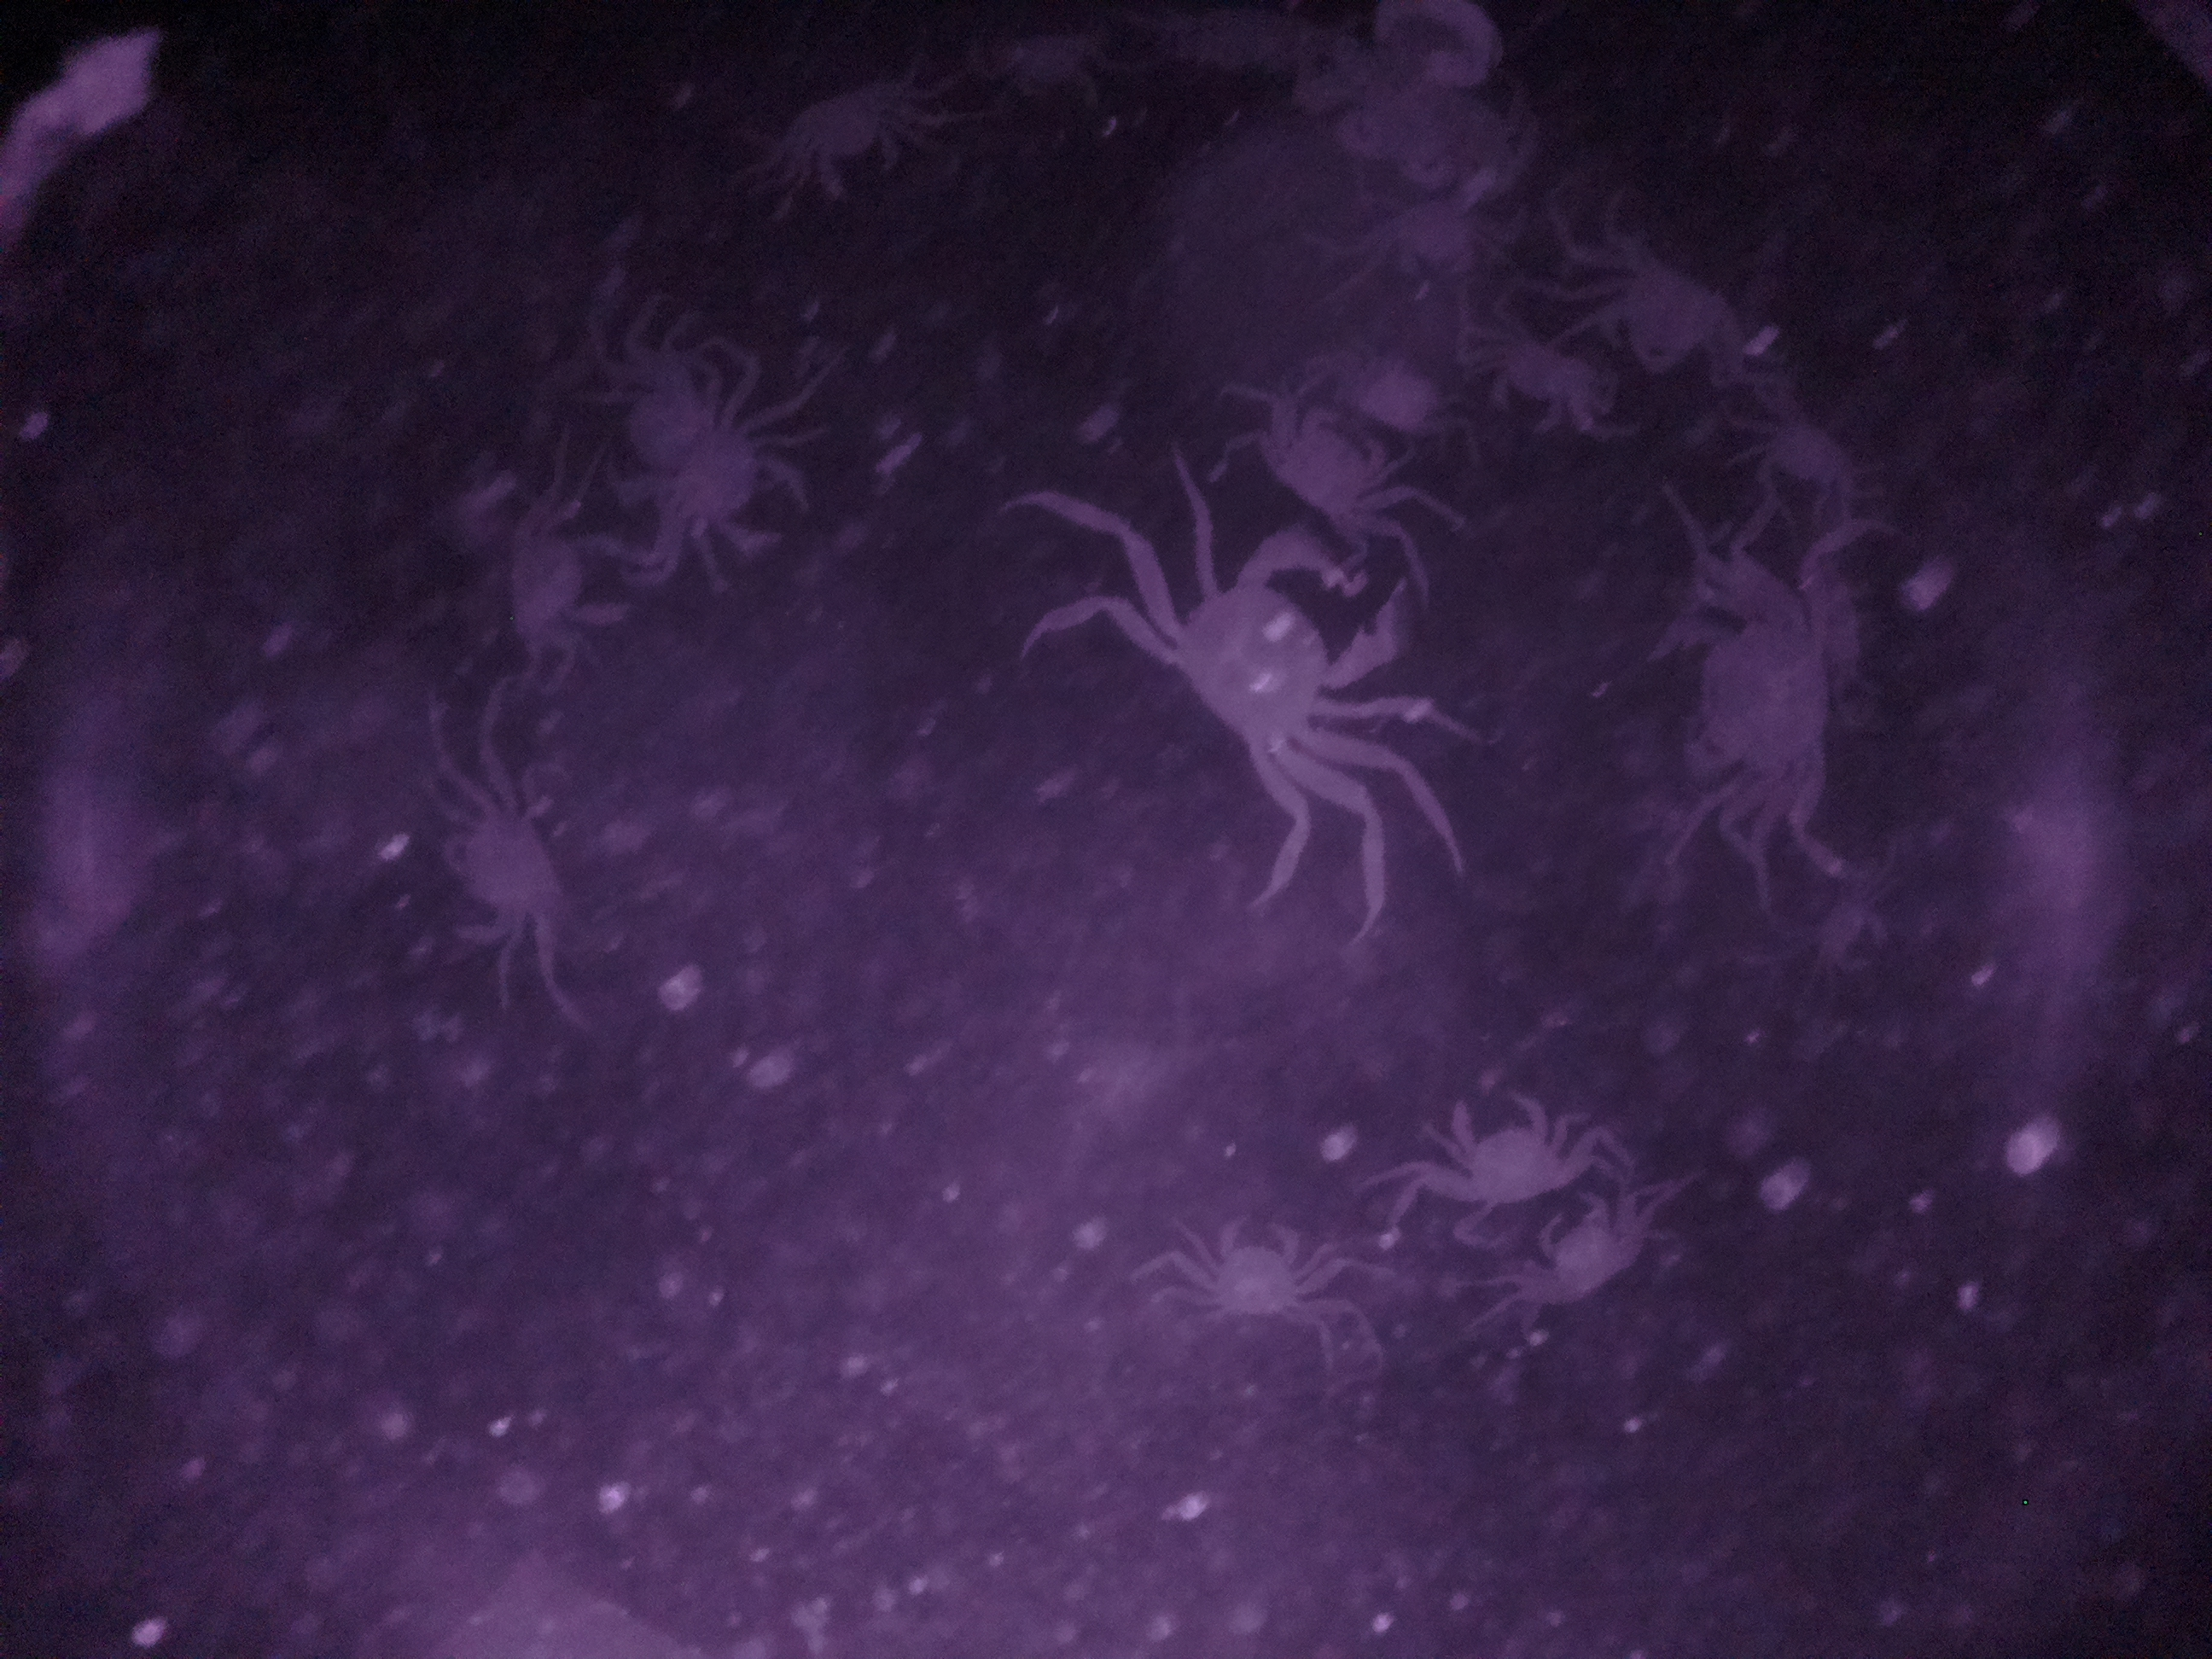Crab: (1137, 526, 1430, 793), (1655, 580, 1839, 809), (421, 760, 592, 974), (653, 368, 826, 566), (1561, 239, 1763, 378), (1252, 382, 1414, 538), (1426, 1082, 1583, 1222), (782, 77, 935, 214), (1179, 1211, 1327, 1331)
